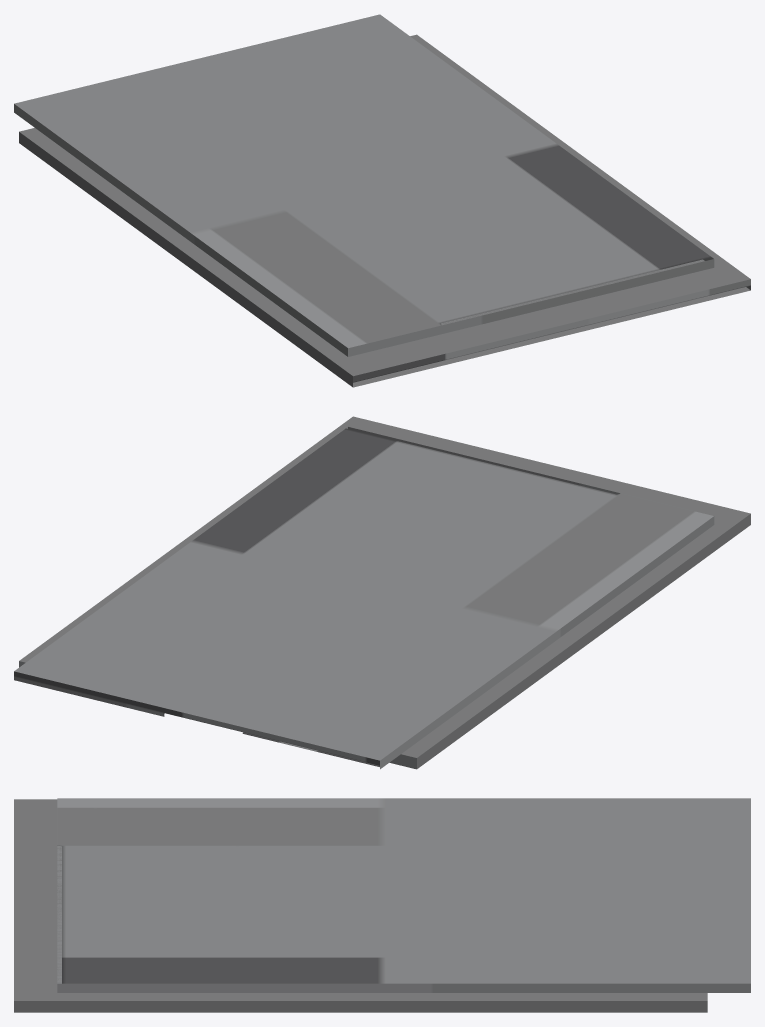
The picture shows the model from 3 angles, top to bottom: view 1: azimuth 30°, elevation 25°; view 2: azimuth 150°, elevation 25°; view 3: azimuth 270°, elevation 25°; orthographic projection. The views are drawn at different scales.
Bounding box in the file's own units: 0.66 × 0.032 × 1.02.
